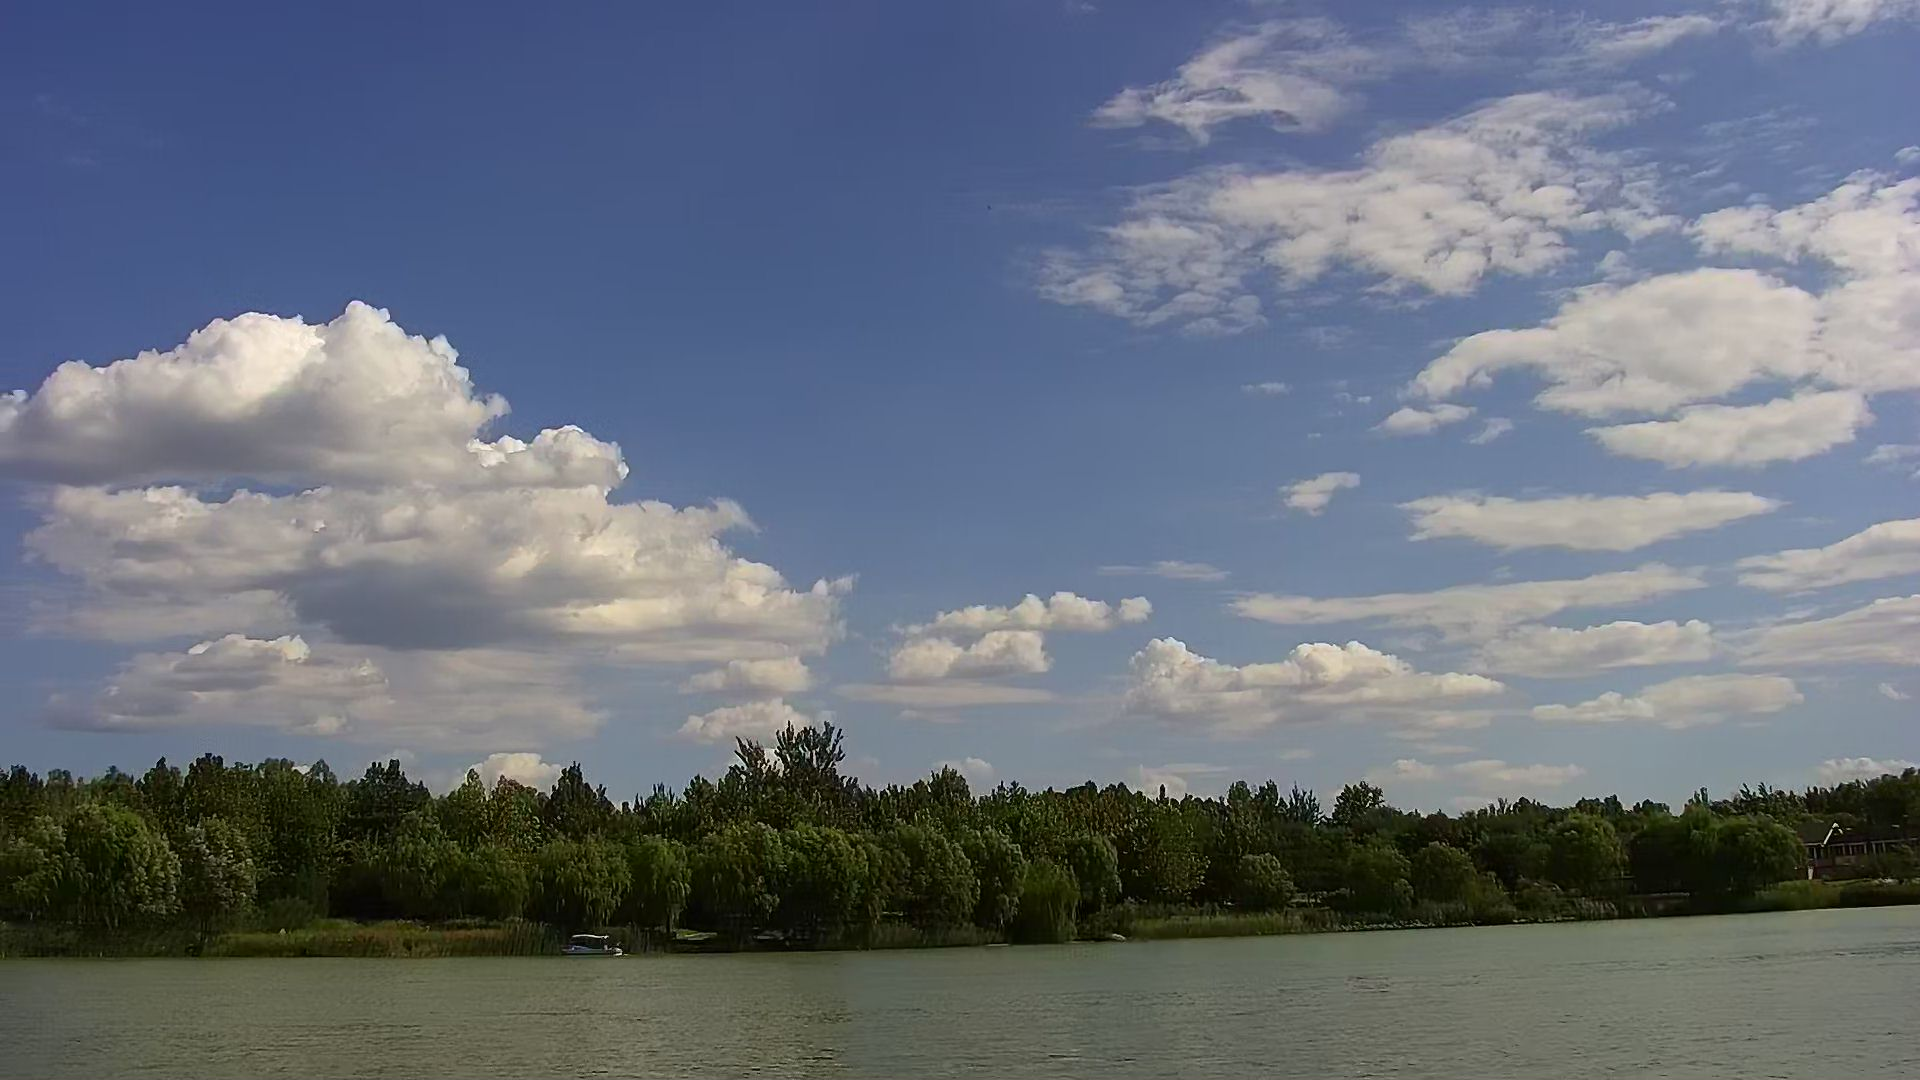boat: (550, 930, 630, 961)
